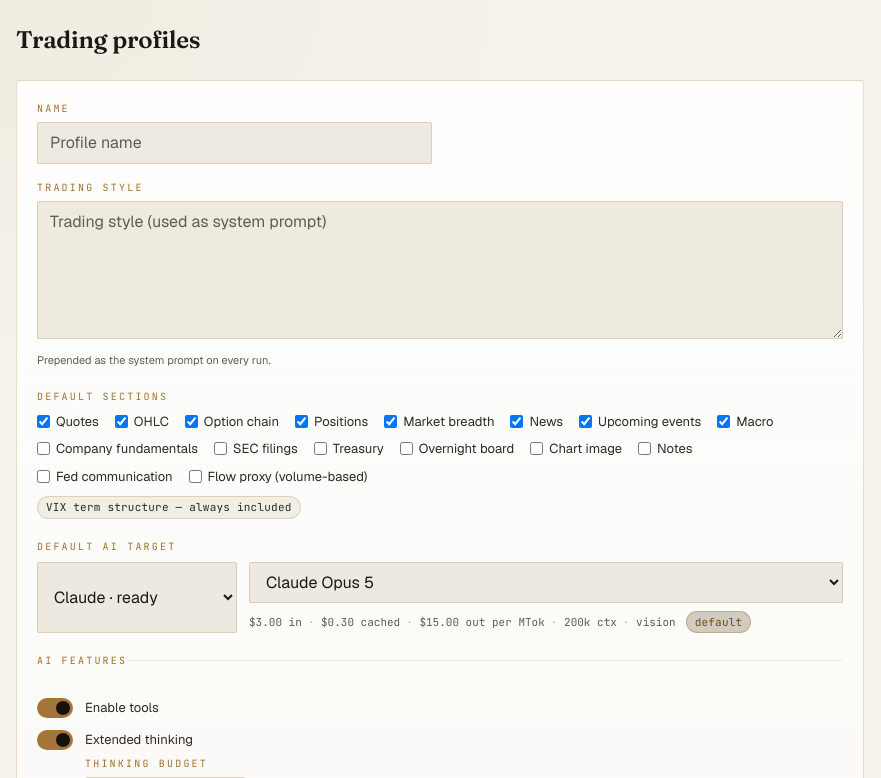
Test case: ProfilesPage – AI features fieldset › disables the Claude-only switches on OpenAI and names the reason
Select "OpenAI · ready" in the dropdown named "Default provider": (137, 597) top-left (37, 562), bottom-right (237, 633)
(page scrolled)
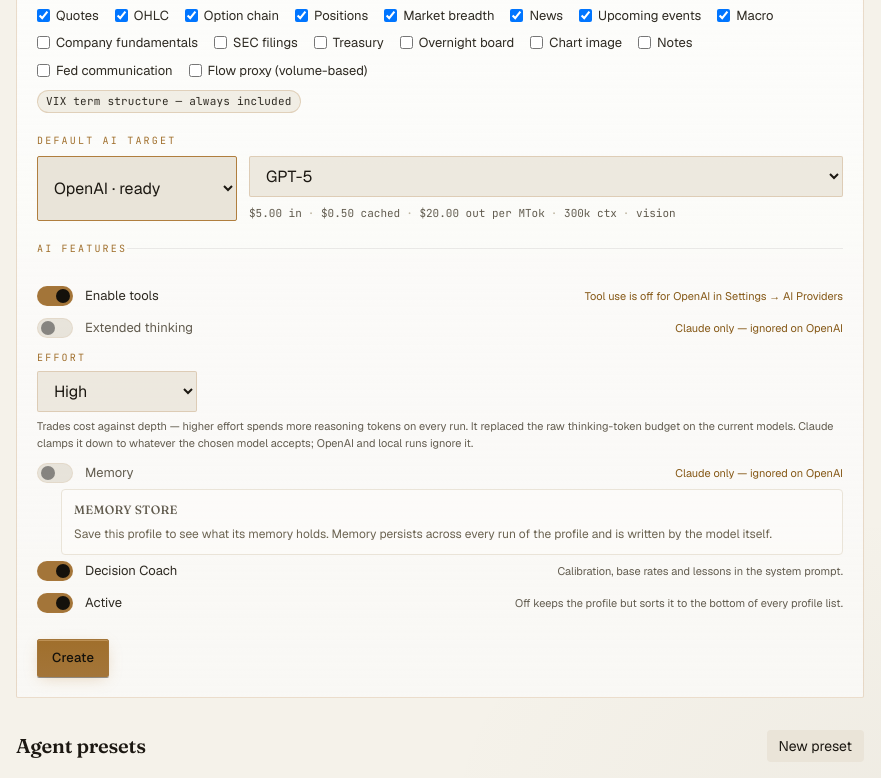
expect the switch named "Extended thinking" is disabled: met, box top-left (37, 318), bottom-right (73, 338)
expect the switch named "Extended thinking" is not checked: met, box top-left (37, 318), bottom-right (73, 338)
expect the switch named "Memory" is disabled: met, box top-left (37, 463), bottom-right (73, 483)
